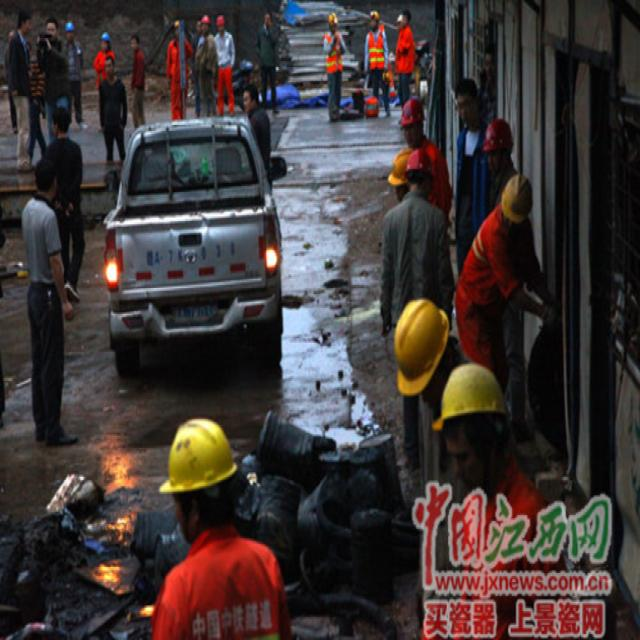Reflective-Jacket: (367, 29, 386, 69), (326, 32, 344, 72)
Safety-Helmet: (164, 414, 236, 496), (393, 294, 449, 395), (437, 359, 509, 426), (502, 172, 531, 223), (483, 116, 515, 151), (405, 145, 435, 172), (399, 94, 425, 125), (56, 94, 70, 110), (328, 11, 338, 26), (64, 20, 75, 33)
